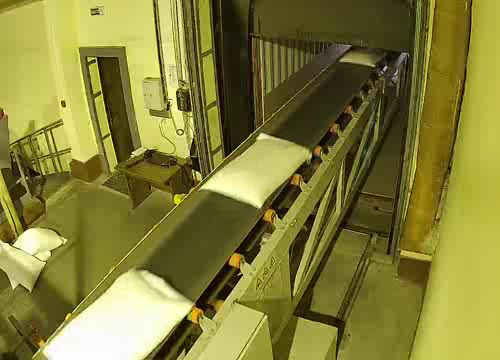bag: (37, 265, 209, 360), (199, 131, 313, 207), (339, 44, 393, 70)
